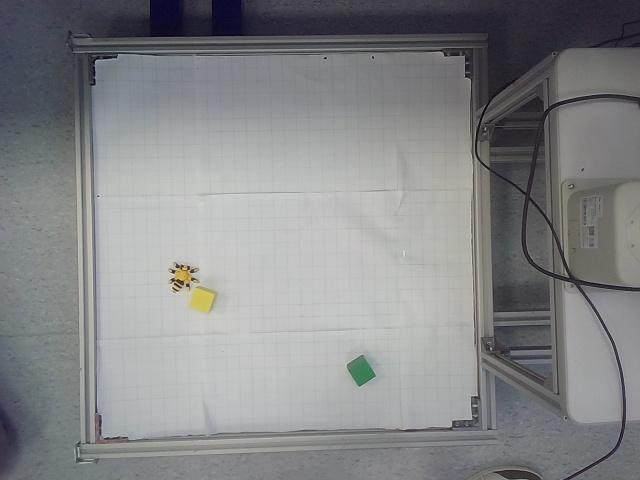frelon: (168, 262, 200, 293)
